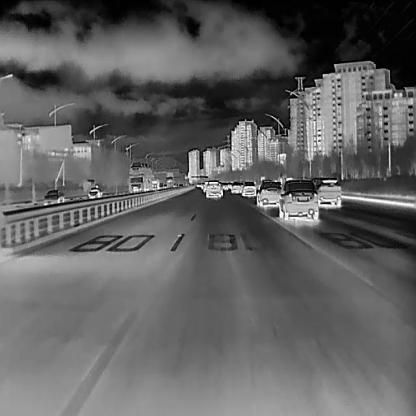car: (277, 177, 318, 220), (309, 177, 342, 208), (256, 180, 282, 207), (43, 188, 64, 206), (204, 178, 221, 197), (239, 179, 256, 196), (87, 187, 102, 200), (230, 180, 242, 194), (158, 181, 164, 189), (162, 183, 166, 188)
truck: (128, 160, 154, 194), (150, 177, 159, 191), (165, 178, 174, 188)
